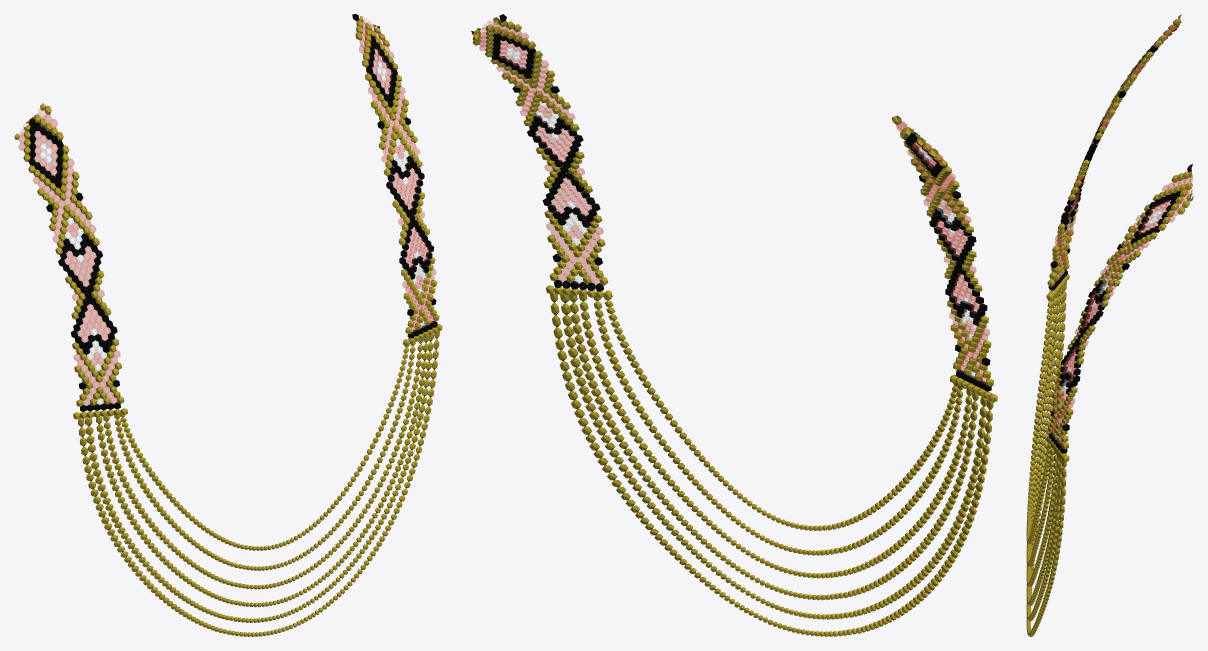
The model's file is gold necklace glb.glb.
The picture shows the model from 3 angles, left to right: view 1: azimuth 30°, elevation 25°; view 2: azimuth 150°, elevation 25°; view 3: azimuth 270°, elevation 25°; orthographic projection. The views are drawn at different scales.
Parts seen in each view (by area): view 1: main body gold, red jewels, black jewels, diamonds; view 2: main body gold, red jewels, black jewels, diamonds; view 3: main body gold, black jewels, red jewels, diamonds.
Boxes of the visible parts, x1=… form: main body gold: x1=14, y1=16, x2=442, y2=636; red jewels: x1=18, y1=18, x2=435, y2=405; black jewels: x1=28, y1=14, x2=437, y2=411; diamonds: x1=40, y1=61, x2=426, y2=404; main body gold: x1=472, y1=17, x2=997, y2=636; red jewels: x1=479, y1=20, x2=989, y2=383; black jewels: x1=471, y1=14, x2=991, y2=391; diamonds: x1=505, y1=46, x2=976, y2=378; main body gold: x1=1026, y1=14, x2=1192, y2=636; black jewels: x1=1048, y1=24, x2=1193, y2=453; red jewels: x1=1050, y1=24, x2=1192, y2=445; diamonds: x1=1055, y1=42, x2=1163, y2=439.
Bounding box in the file's own units: 11.86 × 15.74 × 4.43.
